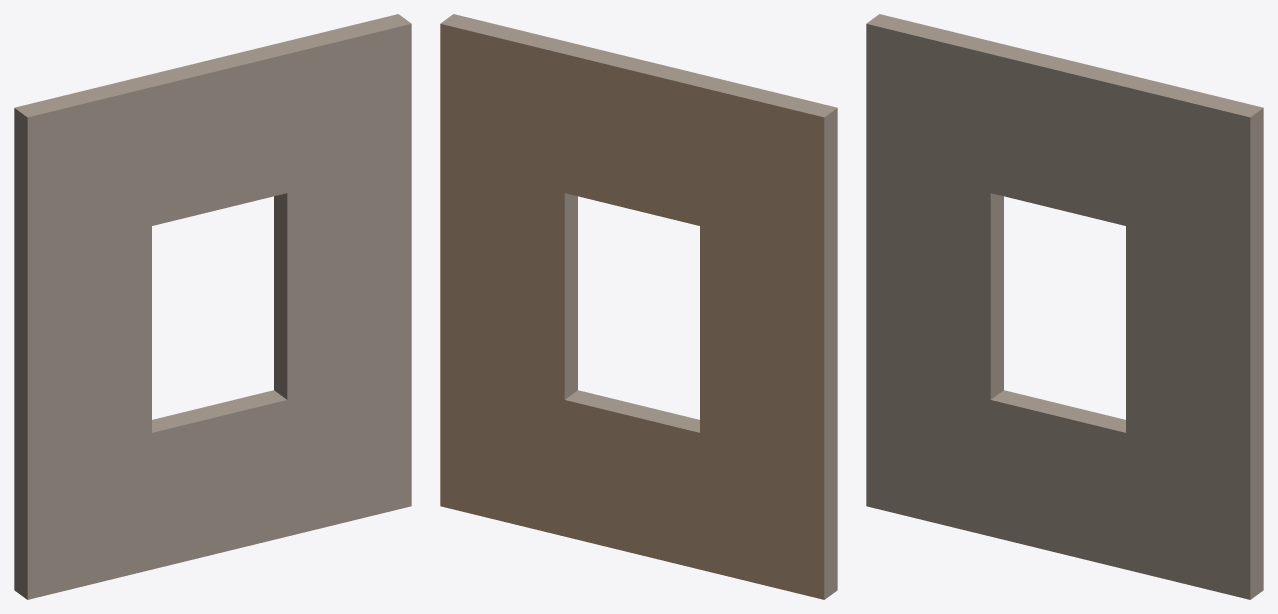
Rendered from Wall2_C4_03.fbx.
3 views of the same model, side by side, from view 1: azimuth 30°, elevation 25°; view 2: azimuth 150°, elevation 25°; view 3: azimuth 330°, elevation 25° (orthographic).
Parts seen in each view (by area): view 1: Wall2_C4_03; view 2: Wall2_C4_03; view 3: Wall2_C4_03.
Boxes of the visible parts, x1,y1,x2,y2 form: Wall2_C4_03: [14, 14, 411, 599]; Wall2_C4_03: [440, 14, 837, 599]; Wall2_C4_03: [866, 14, 1263, 599].
Bounding box in the file's own units: 250 × 300 × 15.
